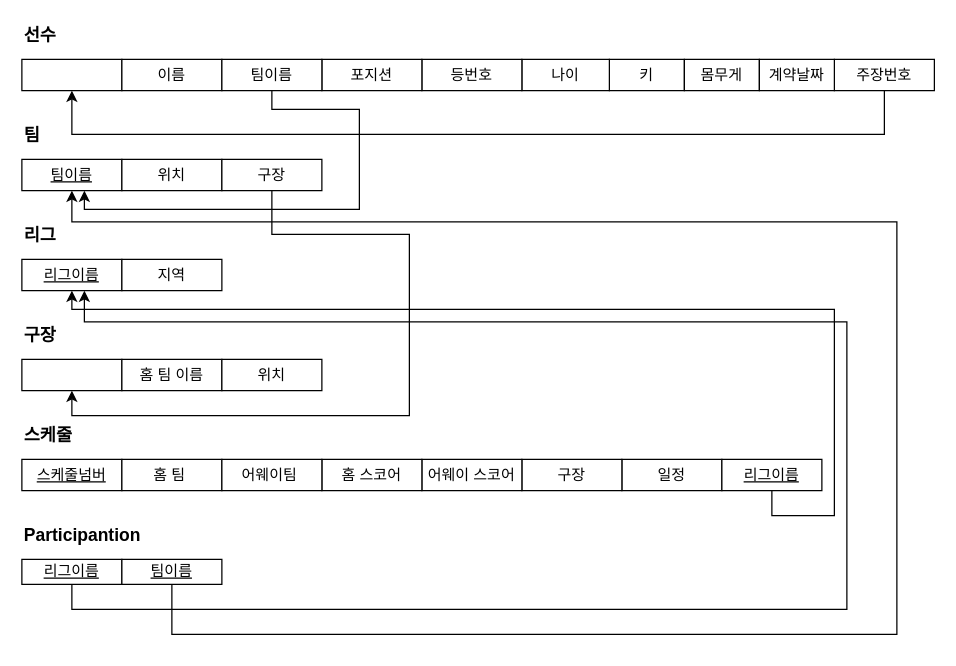
This 956x666 diagram has some shape labels left out. Each missing label, with the box of its shape:
구장이름: (21, 358, 122, 391)
선수등록번호: (21, 58, 122, 91)
